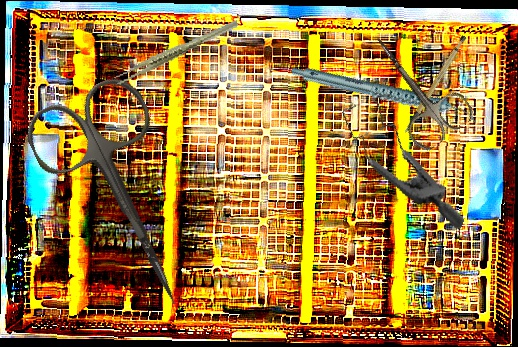Handpiece: (289, 29, 480, 160)
Iris Scissors: (18, 69, 228, 331), (351, 16, 478, 156)
Scalpel Handle: (389, 34, 479, 134)
Speculum: (318, 81, 495, 231)
Tissue Forceps: (107, 19, 246, 86)
